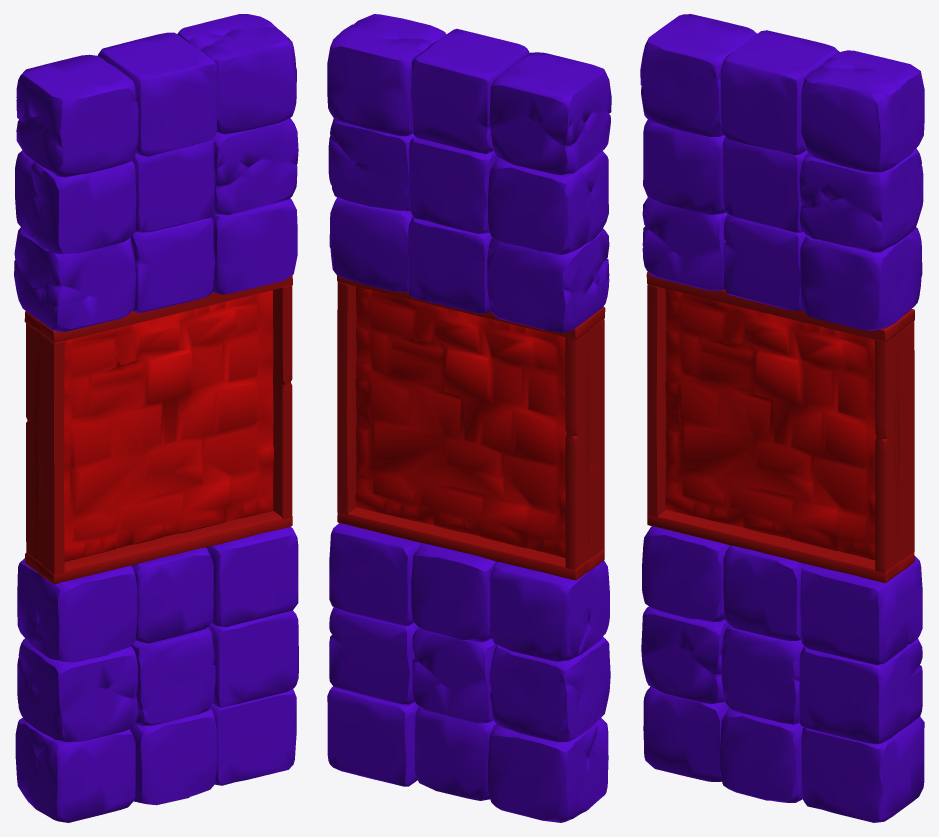
File: wall03.fbx
The picture shows the model from 3 angles, left to right: view 1: azimuth 30°, elevation 25°; view 2: azimuth 150°, elevation 25°; view 3: azimuth 330°, elevation 25°; orthographic projection.
Visible parts, largest first — view 1: wall03; view 2: wall03; view 3: wall03.
Part boxes in pixels (box(x1,y1,x2,y2)): wall03: box(14, 14, 298, 822); wall03: box(327, 14, 611, 822); wall03: box(640, 14, 924, 822).
Size of the model in its own units: 3.92 by 11.3 by 1.36.
